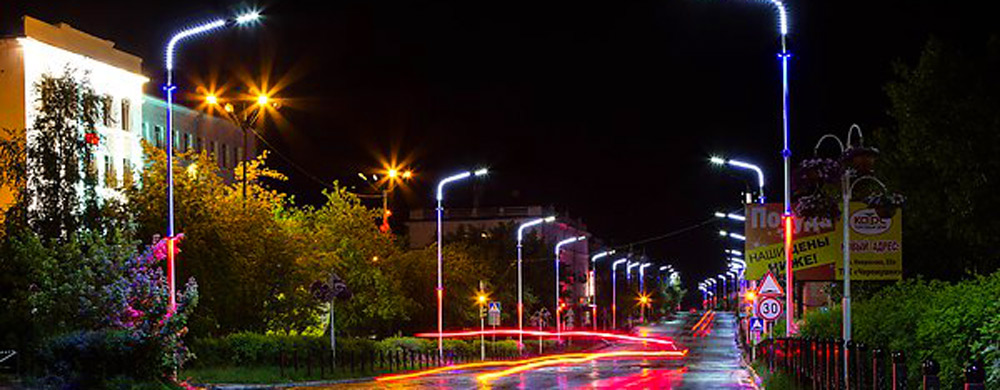sign: (755, 269, 786, 297), (758, 296, 783, 321), (749, 315, 766, 332), (486, 300, 503, 313)
